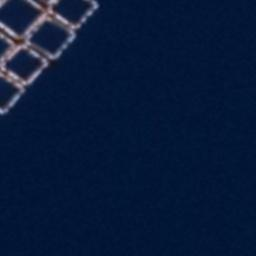square_solid: (19, 10, 83, 64), (1, 41, 52, 93), (1, 1, 53, 46), (43, 1, 104, 32), (1, 69, 28, 120), (1, 22, 19, 72)
